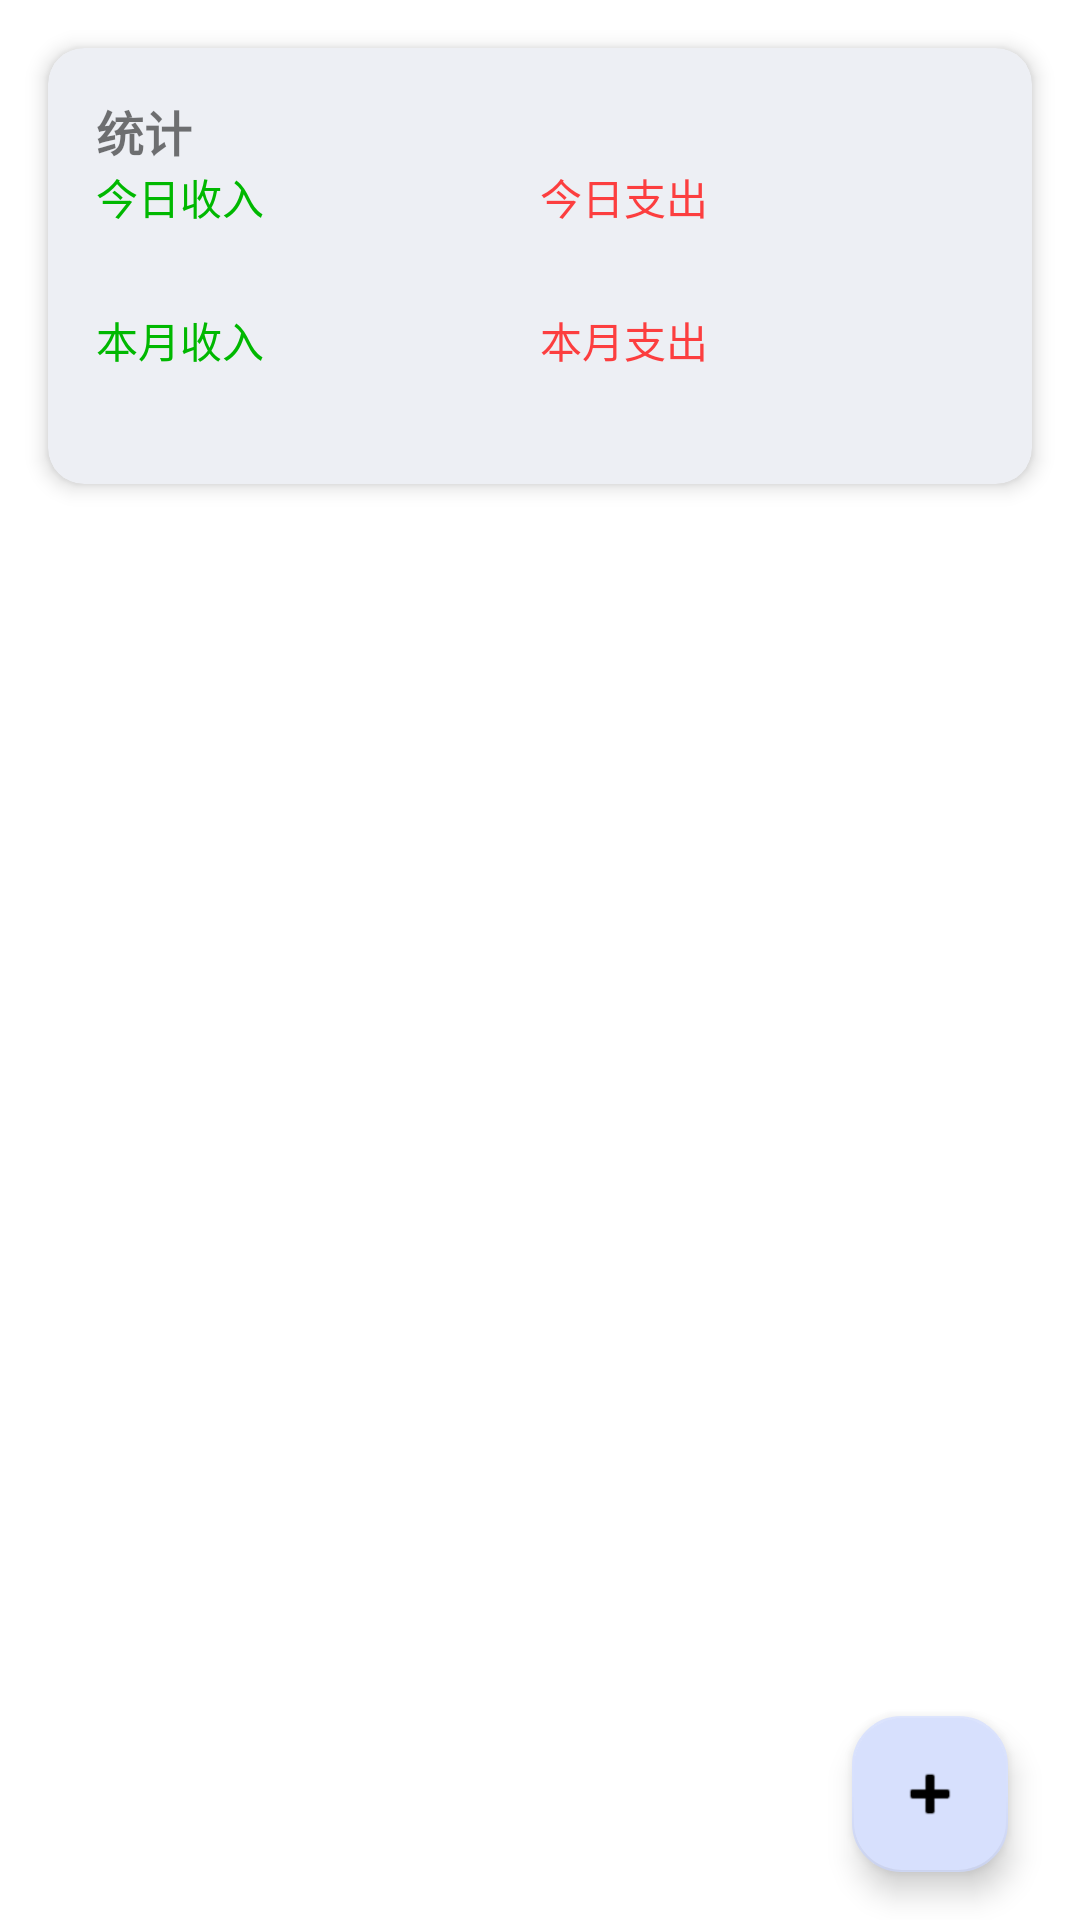

Named icons in this screenshot (1080x1920) and their bounding boxes, bbox=[x1, y1, x2, y2]:
add: bbox=[852, 1716, 1008, 1872]
